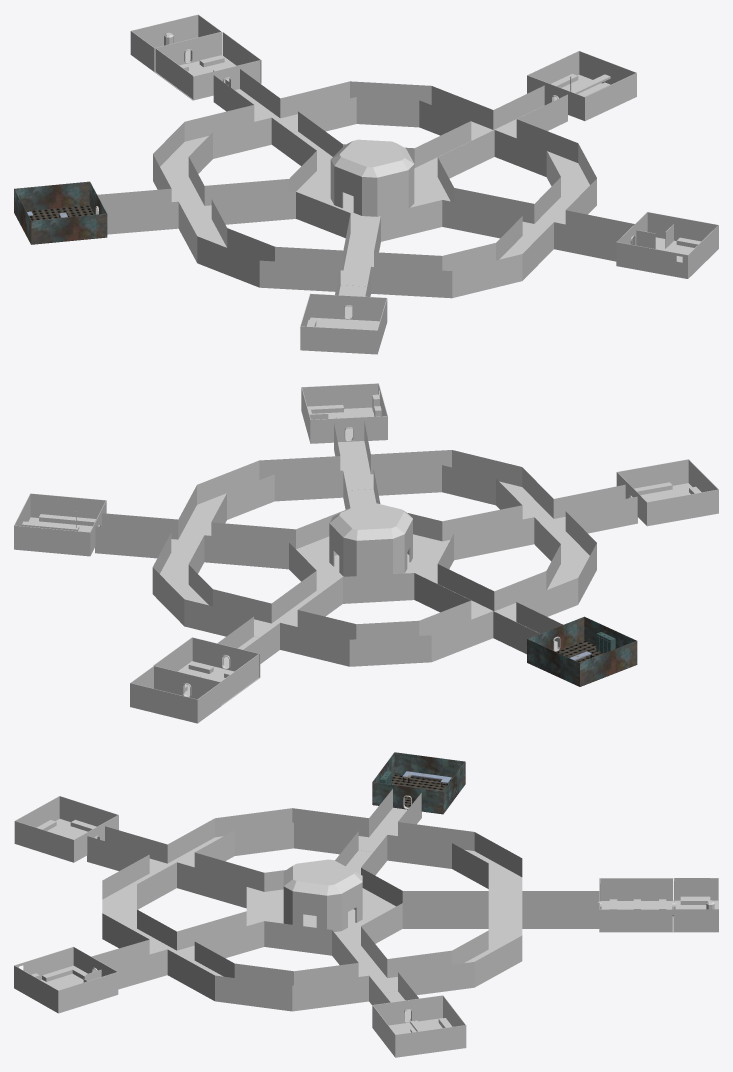
The model's file is Mapafbx.fbx.
3 views of the same model, one above another, from view 1: azimuth 30°, elevation 25°; view 2: azimuth 150°, elevation 25°; view 3: azimuth 270°, elevation 25° (orthographic). The views are drawn at different scales.
Visible parts, largest first — view 1: Corridor_walls, Floor, Center, Wall.001, Wall, Wall.004, Wall.005, Wall.009, Wall.013, Wall.010, Wall.016, Wall.006 (+8 smaller); view 2: Corridor_walls, Floor, Center, Wall, Wall.001, Wall.008, Wall.016, Wall.009, Wall.002, Wall.005, Wall.010, Wall.013 (+9 smaller); view 3: Corridor_walls, Floor, Center, Wall.001, Wall, Wall.012, Wall.006, Wall.011, Wall.007, Wall.003, Wall.002, Wall.015 (+7 smaller).
Part boxes in pixels (<box>): Corridor_walls: <box>97,69,634,296</box>; Floor: <box>107,89,616,317</box>; Center: <box>330,139,414,216</box>; Wall.001: <box>616,212,718,278</box>; Wall: <box>300,293,387,354</box>; Wall.004: <box>31,213,106,244</box>; Wall.005: <box>15,181,89,211</box>; Wall.009: <box>585,73,636,120</box>; Wall.013: <box>154,31,221,71</box>; Wall.010: <box>192,60,260,99</box>; Wall.016: <box>131,14,198,47</box>; Wall.006: <box>579,51,636,96</box>; Corridor_walls: <box>95,421,637,659</box>; Floor: <box>95,441,637,667</box>; Center: <box>329,502,412,576</box>; Wall: <box>616,459,718,525</box>; Wall.001: <box>301,383,387,443</box>; Wall.008: <box>14,525,89,555</box>; Wall.016: <box>130,683,197,722</box>; Wall.009: <box>30,493,105,518</box>; Wall.002: <box>579,641,637,686</box>; Wall.005: <box>527,639,579,686</box>; Wall.010: <box>192,637,260,677</box>; Wall.013: <box>154,666,220,699</box>; Corridor_walls: <box>87,789,599,1004</box>; Floor: <box>87,807,599,1021</box>; Center: <box>283,859,362,931</box>; Wall.001: <box>14,946,118,1012</box>; Wall: <box>14,796,118,862</box>; Wall.012: <box>599,909,672,932</box>; Wall.006: <box>395,1025,466,1057</box>; Wall.011: <box>599,878,672,900</box>; Wall.007: <box>372,995,442,1027</box>; Wall.003: <box>372,782,443,813</box>; Wall.002: <box>394,752,465,783</box>; Wall.015: <box>674,909,718,931</box>.
Bounding box in the file's own units: 8 × 0.6651 × 8.44.
Materials: 6 (6 with a texture image).
